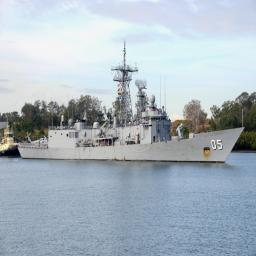Fragata: (15, 36, 248, 167)
